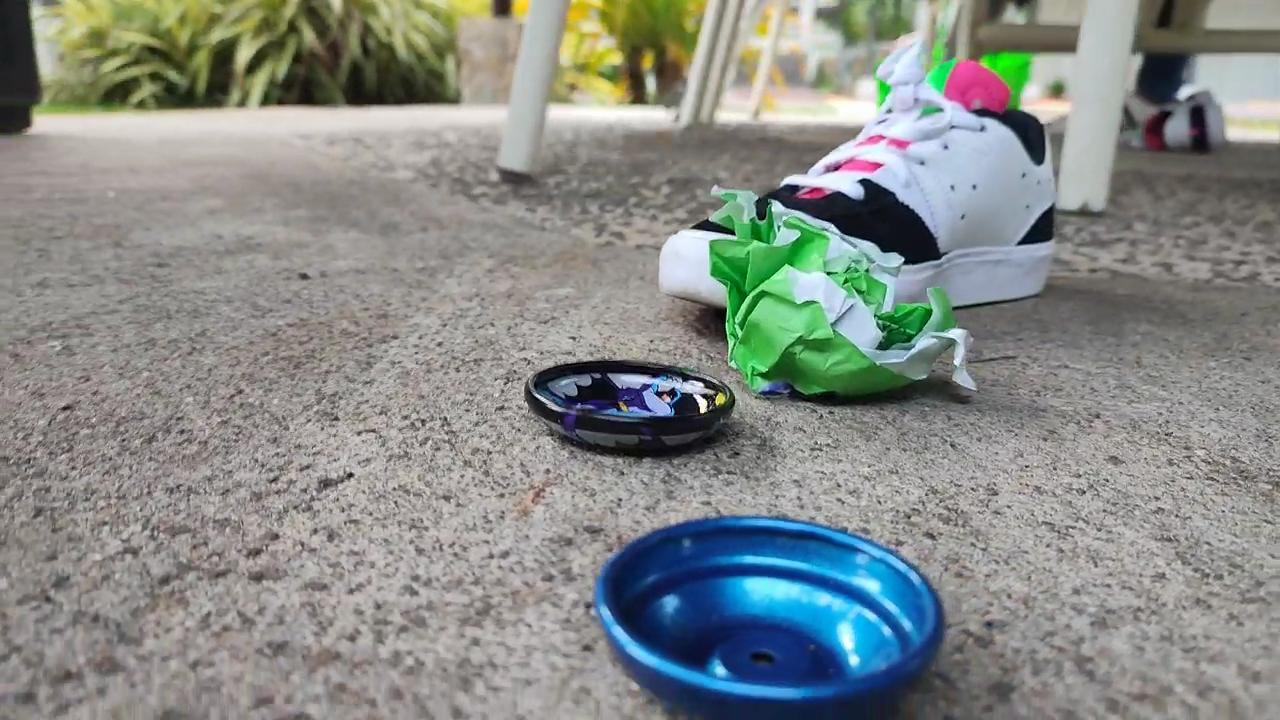Paper: (691, 177, 996, 398)
